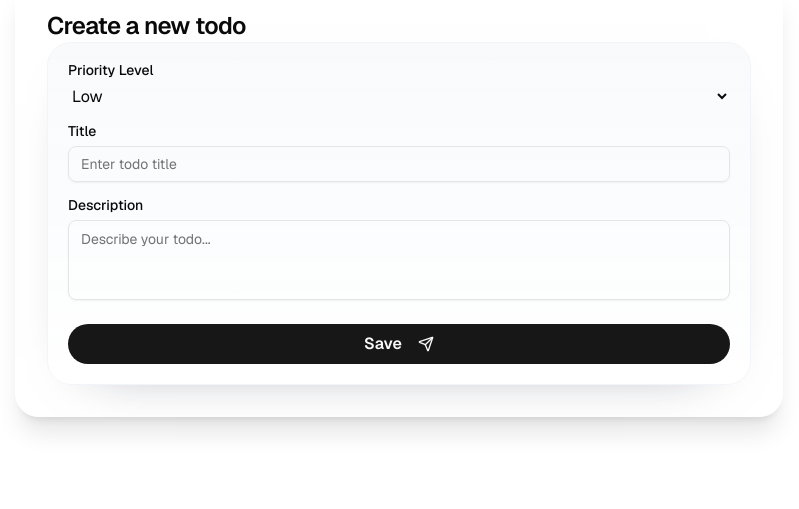
FormTodo › clears validation error when user provides valid title
Submit empty to trigger error
Click the button "Save": (399, 344) [68,324,730,364]
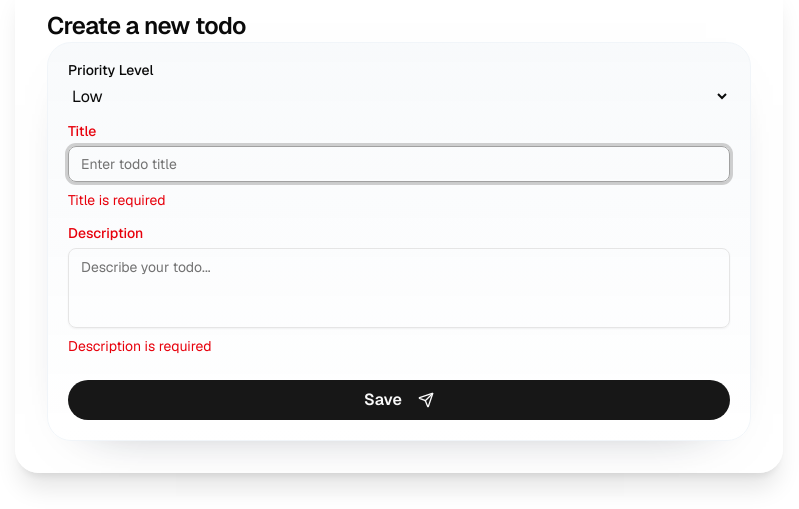
Now the text "Title is required" is shown, box [68,191,166,209]
Enter a valid title
In the field labelled "Title": (399, 164) [68,146,730,182], type "something"
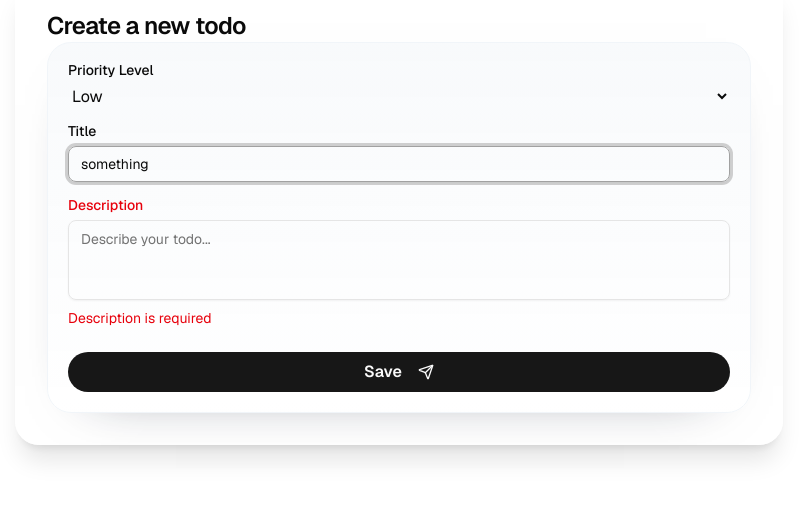
Now the text "Title is required" is gone
